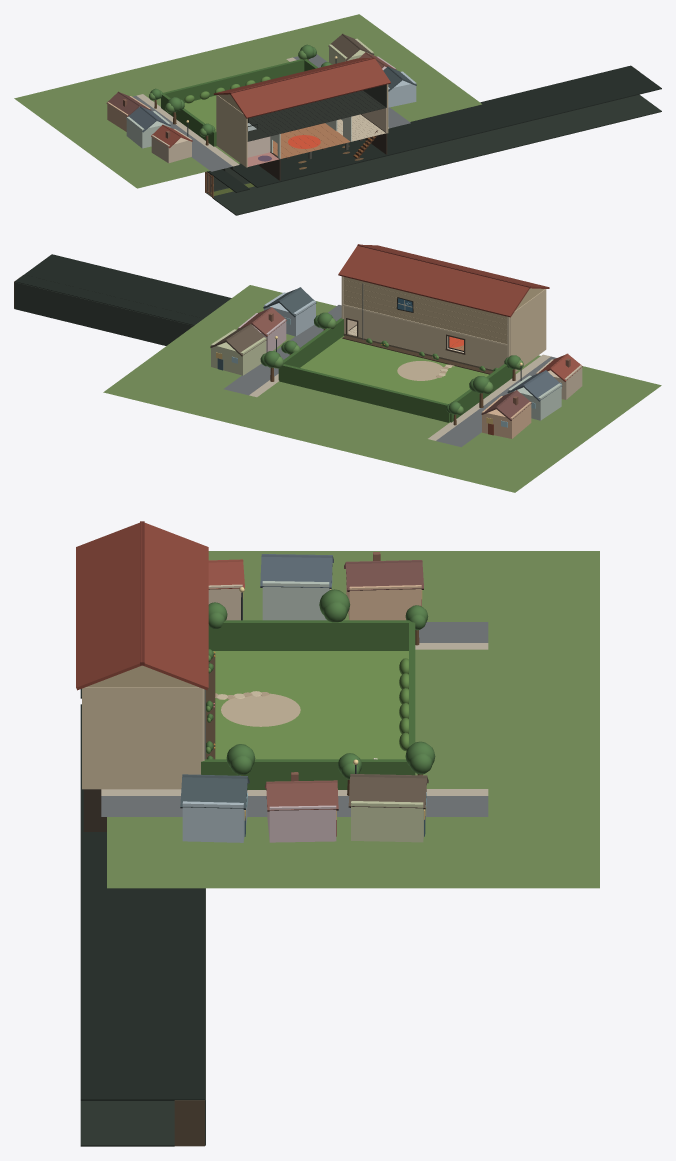
Rendered from stampkonijn-house.glb.
The picture shows the model from 3 angles, top to bottom: view 1: azimuth 30°, elevation 25°; view 2: azimuth 150°, elevation 25°; view 3: azimuth 270°, elevation 25°; orthographic projection. The views are drawn at different scales.
Parts seen in each view (by area): view 1: suburb_surrounding_ground, sewer_foreground_floor, sewer_foreground_roof_1, exterior_roof_front, upstairs_floor_0, sewer_roof_1, exterior_side_wall_left, garden_back_hedge, living_floor, suburb_side_street_0, suburb_house_0_body, suburb_house_1_body (+19 smaller); view 2: suburb_surrounding_ground, exterior_roof_back, garden_lawn, sewer_foreground_roof_1, sewer_back_wall, exterior_upper_wall, garden_back_hedge, exterior_ground_center, exterior_side_wall_left, sewer_roof_1, suburb_side_street_1, suburb_house_5_body (+21 smaller); view 3: suburb_surrounding_ground, sewer_foreground_roof_1, garden_lawn, exterior_side_wall_right, exterior_roof_back, exterior_roof_front, sewer_roof_1, garden_left_hedge, sewer_foreground_floor, suburb_side_street_1, garden_right_hedge, suburb_house_5_body (+17 smaller).
Boxes of the visible parts, left/top/right/bottom form: suburb_surrounding_ground: left=14, top=14, right=481, bottom=188; sewer_foreground_floor: left=212, top=94, right=661, bottom=215; sewer_foreground_roof_1: left=233, top=71, right=661, bottom=187; exterior_roof_front: left=230, top=58, right=390, bottom=118; upstairs_floor_0: left=247, top=90, right=386, bottom=136; sewer_roof_1: left=229, top=65, right=637, bottom=170; exterior_side_wall_left: left=216, top=95, right=247, bottom=167; garden_back_hedge: left=163, top=59, right=304, bottom=102; living_floor: left=273, top=123, right=350, bottom=158; suburb_side_street_0: left=132, top=96, right=232, bottom=171; suburb_house_0_body: left=151, top=129, right=191, bottom=163; suburb_house_1_body: left=126, top=111, right=170, bottom=148; suburb_surrounding_ground: left=103, top=285, right=661, bottom=492; exterior_roof_back: left=338, top=244, right=529, bottom=317; garden_lawn: left=300, top=336, right=489, bottom=403; sewer_foreground_roof_1: left=24, top=254, right=231, bottom=318; sewer_back_wall: left=14, top=282, right=193, bottom=345; exterior_upper_wall: left=343, top=277, right=507, bottom=343; garden_back_hedge: left=279, top=364, right=449, bottom=422; exterior_ground_center: left=357, top=309, right=447, bottom=358; exterior_side_wall_left: left=509, top=289, right=546, bottom=371; sewer_roof_1: left=15, top=275, right=203, bottom=325; suburb_side_street_1: left=223, top=305, right=341, bottom=395; suburb_house_5_body: left=211, top=329, right=266, bottom=375; suburb_surrounding_ground: left=107, top=551, right=599, bottom=888; sewer_foreground_roof_1: left=80, top=704, right=174, bottom=1100; garden_lawn: left=213, top=651, right=408, bottom=759; exterior_side_wall_right: left=82, top=687, right=202, bottom=789; exterior_roof_back: left=141, top=521, right=208, bottom=690; exterior_roof_front: left=76, top=521, right=142, bottom=690; sewer_roof_1: left=174, top=888, right=204, bottom=1100; garden_left_hedge: left=208, top=620, right=411, bottom=650; sewer_foreground_floor: left=80, top=1101, right=174, bottom=1146; suburb_side_street_1: left=101, top=796, right=488, bottom=816; garden_right_hedge: left=201, top=759, right=412, bottom=789; suburb_house_5_body: left=351, top=801, right=426, bottom=842.
Bounding box in the file's own units: 102 × 20.59 × 44.65.
